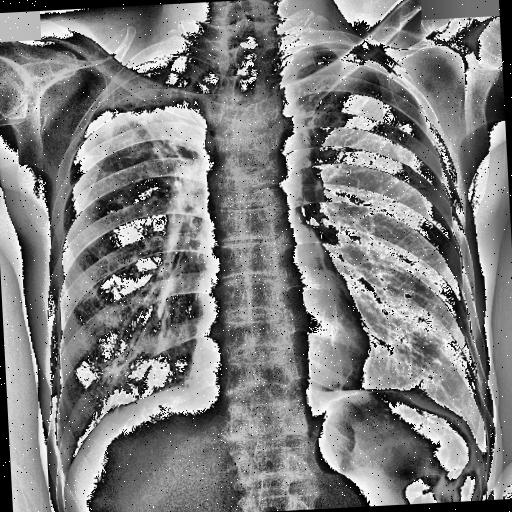1- Atelectasis: (102, 56, 206, 98)
11- Pleural thickening: (82, 48, 226, 172), (88, 55, 221, 122)
13- Pulmonary fibrosis: (82, 48, 226, 172), (105, 91, 195, 181), (122, 94, 202, 188), (154, 256, 184, 318), (99, 356, 131, 394)
7- Lung Opacity: (82, 48, 226, 172)
